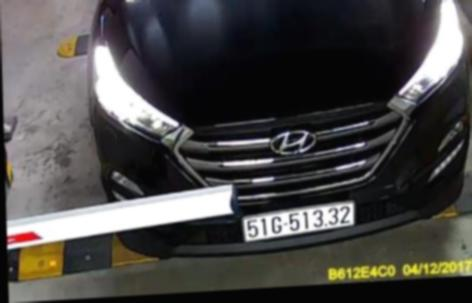License_Plate: (235, 205, 361, 242)
